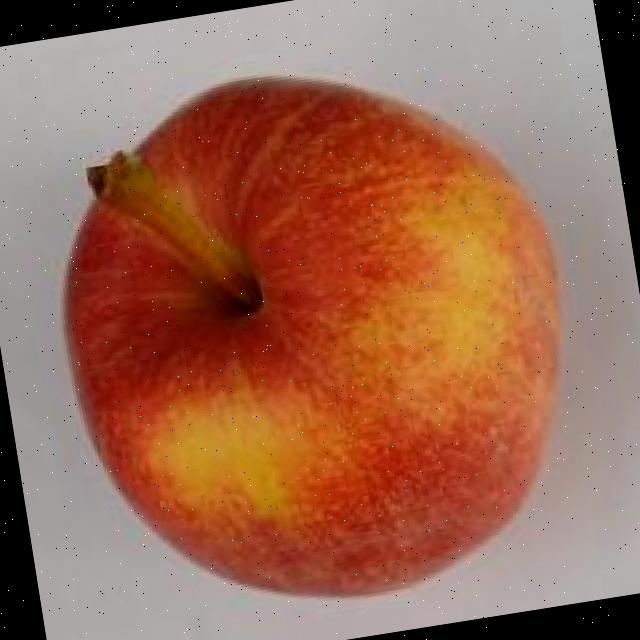apple: (29, 31, 610, 640)
